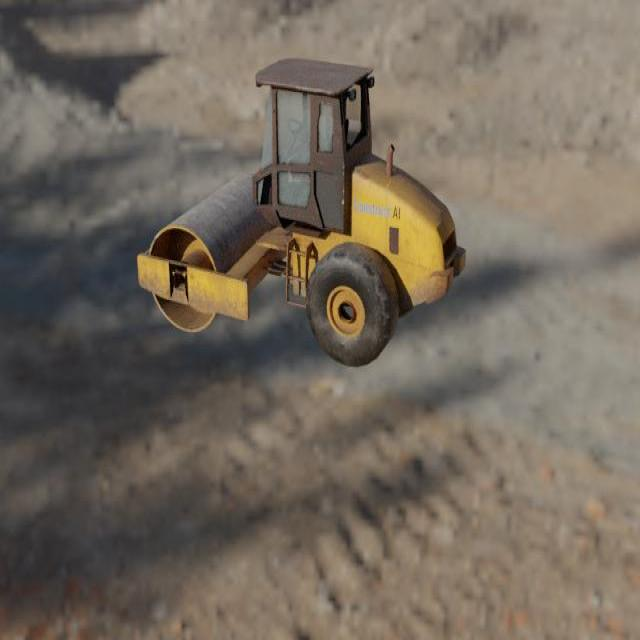Roller: (136, 56, 466, 368)
